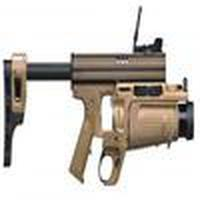gun: (1, 50, 196, 189)
